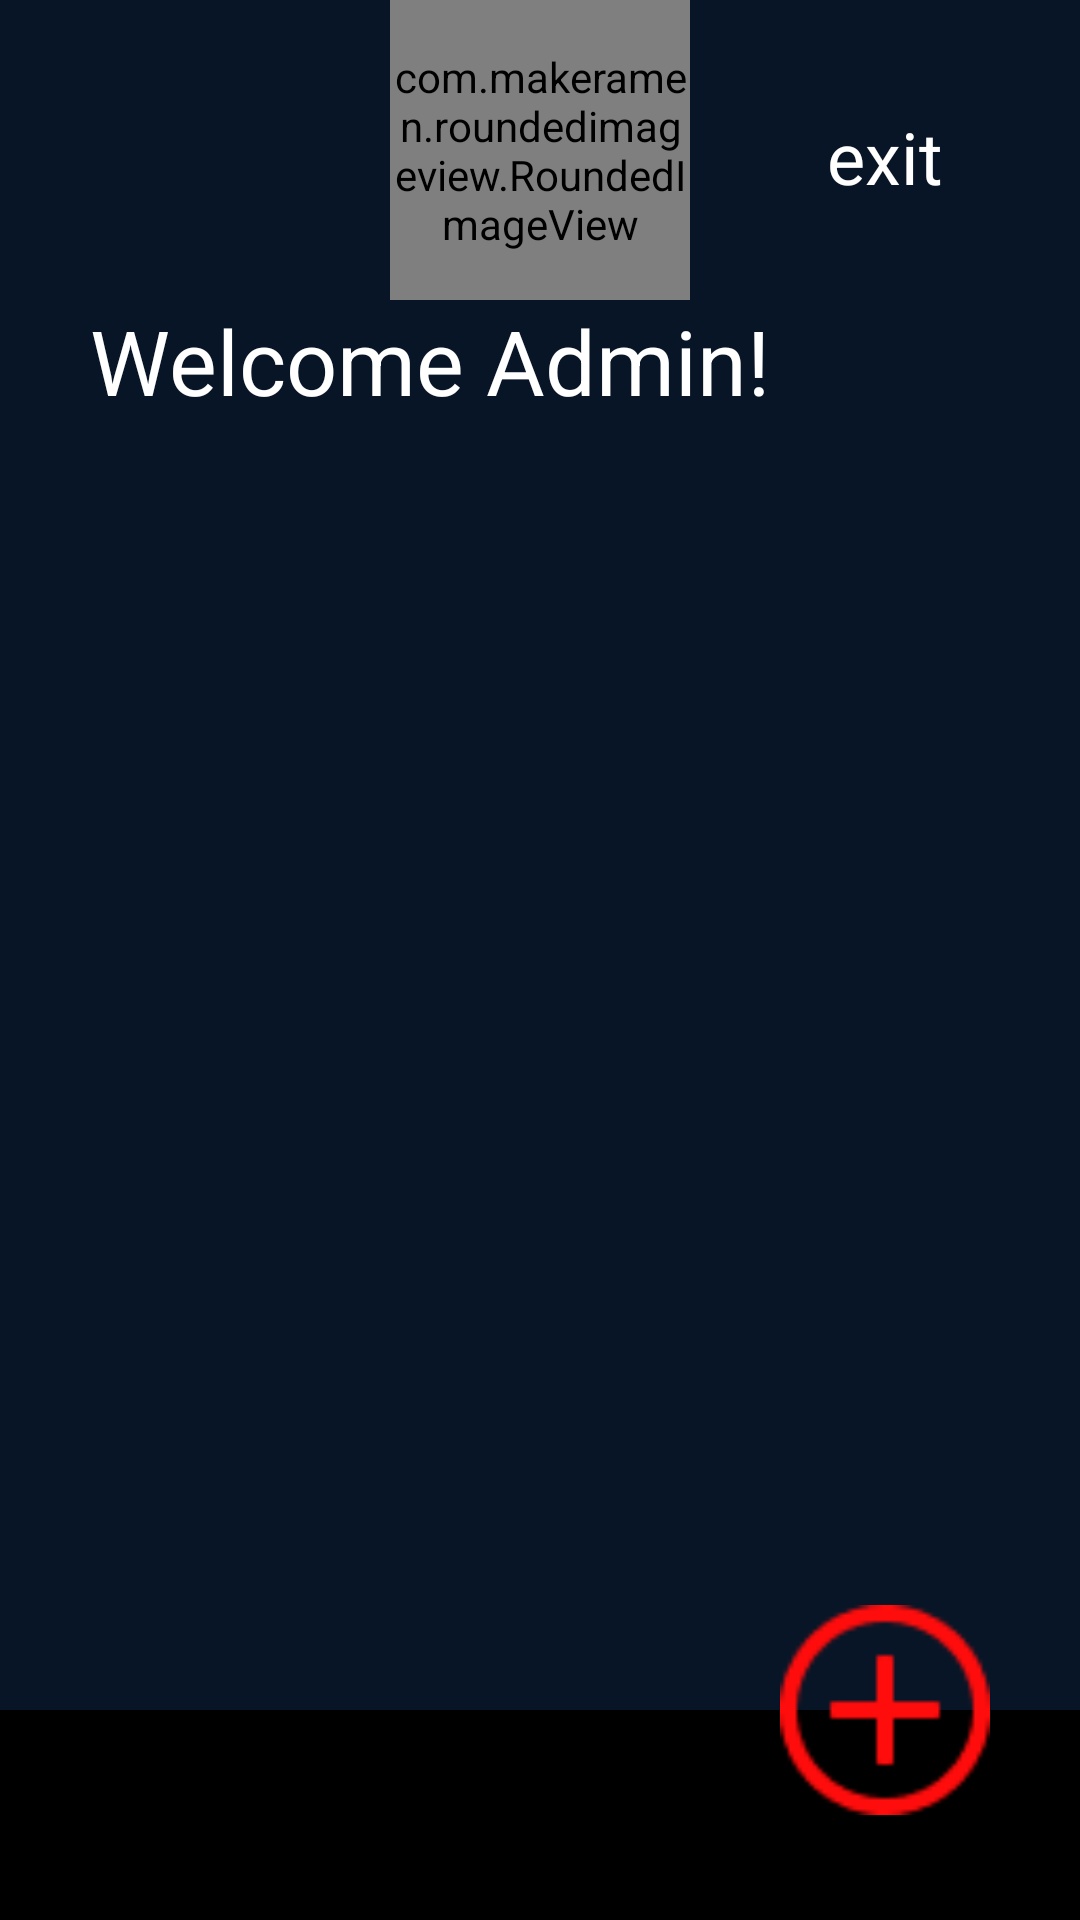

Screen size 1080px x 1920px. Icon name, then its center in pixels as point (x, y):
tambahhh: point (885, 1710)
